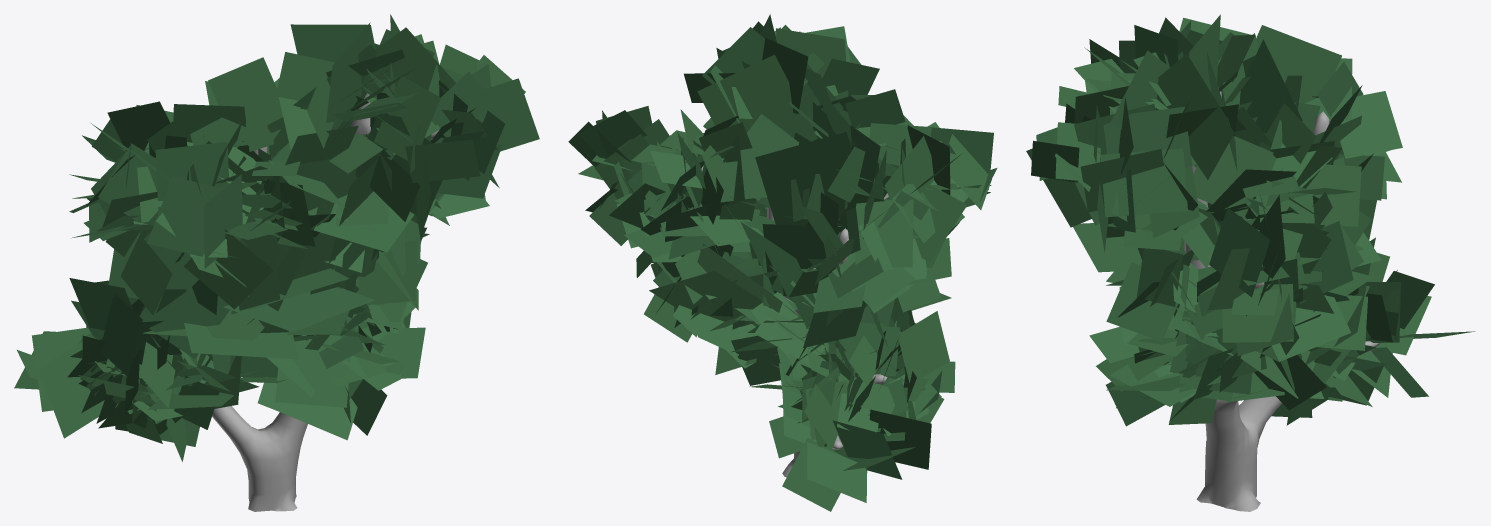
File: SM_Tree_03.fbx
3 views of the same model, side by side, from view 1: azimuth 30°, elevation 25°; view 2: azimuth 150°, elevation 25°; view 3: azimuth 270°, elevation 25° (orthographic). The views are drawn at different scales.
Visible parts, largest first — view 1: Leafs, Trunk; view 2: Leafs, Trunk; view 3: Leafs, Trunk.
Boxes of the visible parts, x1=… form: Leafs: x1=14, y1=14, x2=539, y2=461; Trunk: x1=212, y1=93, x2=438, y2=511; Leafs: x1=568, y1=14, x2=997, y2=511; Trunk: x1=693, y1=166, x2=888, y2=477; Leafs: x1=1026, y1=14, x2=1475, y2=426; Trunk: x1=1184, y1=91, x2=1380, y2=511.
Size of the model in its own units: 1224 by 1235 by 1021.
